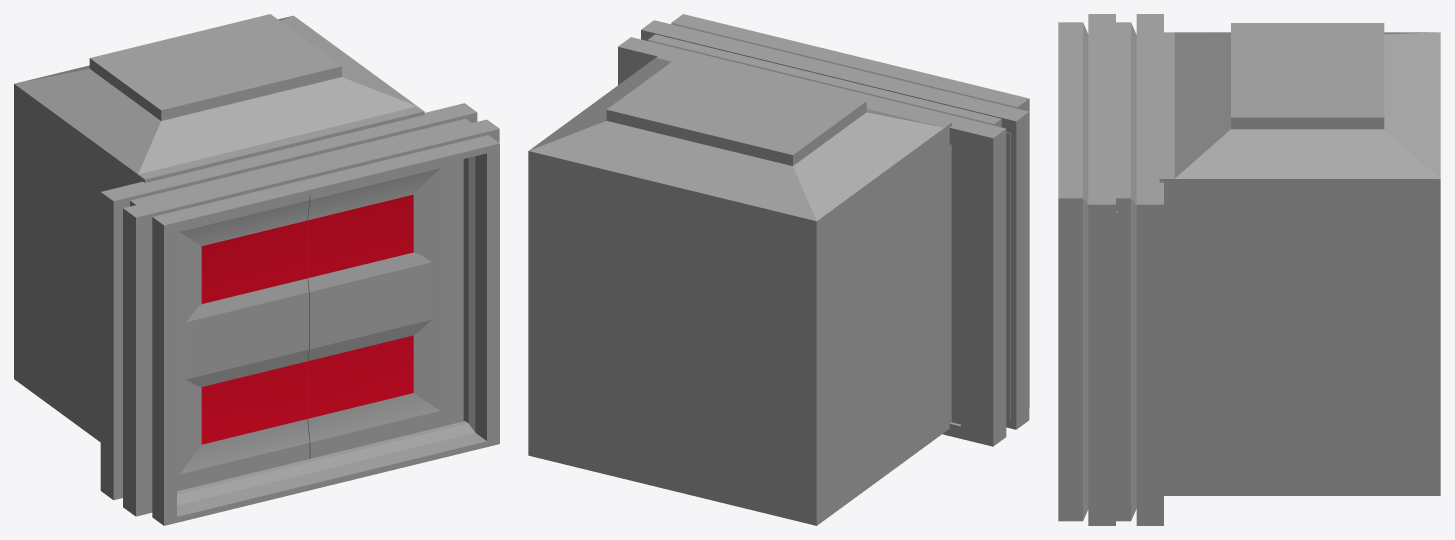
The model's file is Elevator_01.fbx.
3 renders of one model, left to right at view 1: azimuth 30°, elevation 25°; view 2: azimuth 150°, elevation 25°; view 3: azimuth 270°, elevation 25°, orthographic. The views are drawn at different scales.
Parts seen in each view (by area): view 1: Elevator, pCube17, pCube16, pCube15, pCube14; view 2: Elevator, pCube14, pCube17, pCube10, pCube15; view 3: Elevator, pCube17, pCube14, pCube16.
Boxes of the visible parts, x1,y1,x2,y2 form: Elevator: [14, 14, 424, 441]; pCube17: [123, 119, 499, 525]; pCube16: [307, 159, 463, 458]; pCube15: [177, 196, 309, 491]; pCube14: [100, 103, 477, 500]; Elevator: [528, 52, 951, 525]; pCube14: [618, 34, 1006, 446]; pCube17: [641, 14, 1029, 429]; pCube10: [951, 145, 960, 424]; pCube15: [1006, 132, 1010, 419]; Elevator: [1159, 23, 1440, 495]; pCube17: [1058, 14, 1115, 525]; pCube14: [1116, 14, 1163, 525]; pCube16: [1116, 211, 1117, 510].
Bounding box in the file's own units: 4.26 × 3.78 × 3.61.
